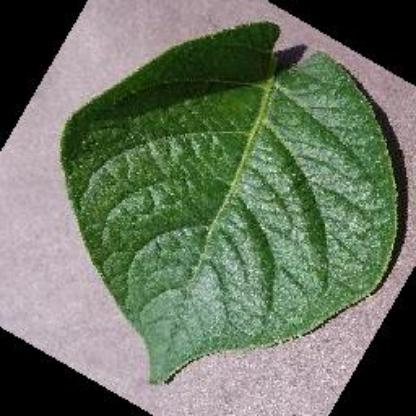Healthy-plant: (60, 15, 410, 387)
